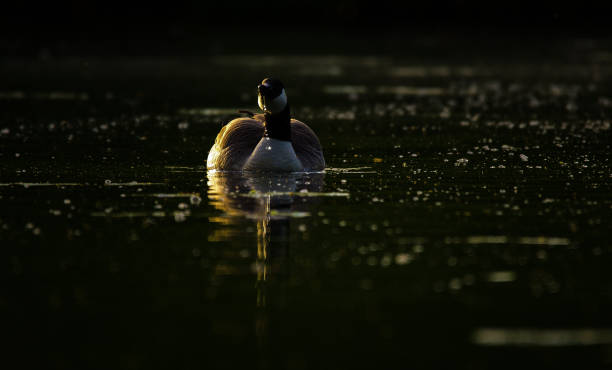goose: (202, 75, 331, 179)
